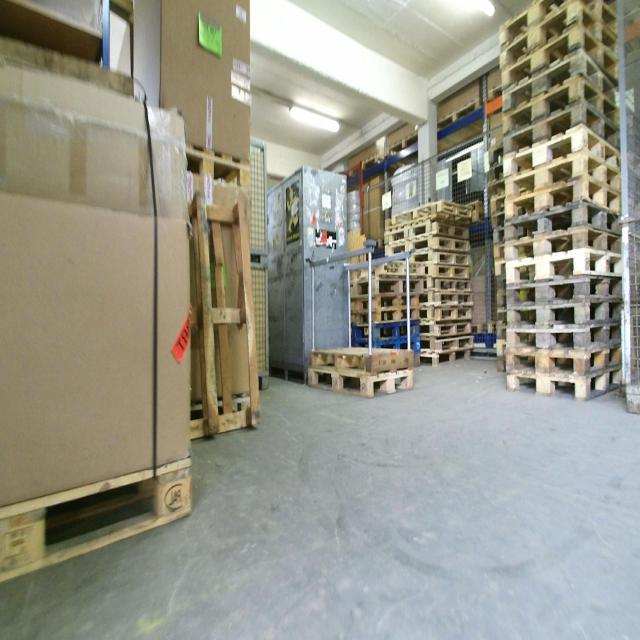pallet: (2, 442, 197, 585), (186, 182, 264, 443), (502, 5, 617, 67), (503, 106, 627, 156), (502, 57, 620, 109), (504, 80, 620, 132), (505, 130, 628, 179), (504, 154, 622, 200), (503, 34, 620, 80), (504, 179, 621, 219), (178, 140, 253, 196), (308, 360, 414, 398), (498, 252, 618, 282), (501, 207, 616, 234), (508, 304, 615, 332), (506, 349, 615, 374), (507, 372, 612, 397), (498, 282, 615, 304), (503, 234, 616, 255), (437, 96, 486, 138), (508, 332, 615, 349), (386, 201, 472, 220), (351, 277, 424, 297), (350, 308, 416, 327), (350, 327, 419, 345), (359, 259, 424, 277), (429, 239, 472, 266), (400, 222, 472, 237), (345, 152, 383, 180), (417, 307, 474, 323), (417, 292, 474, 307), (421, 337, 473, 353), (419, 353, 473, 368), (385, 135, 420, 158), (421, 323, 474, 337), (351, 297, 416, 308), (424, 279, 474, 292), (423, 266, 472, 279), (487, 84, 504, 101), (498, 308, 511, 327), (496, 327, 510, 342), (497, 355, 507, 371), (496, 342, 507, 355)
stillage: (614, 222, 639, 416), (240, 261, 274, 398), (248, 135, 269, 262)
